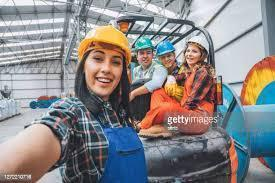helmet: (78, 25, 131, 60), (186, 36, 209, 56), (134, 36, 154, 51), (156, 40, 176, 55)
